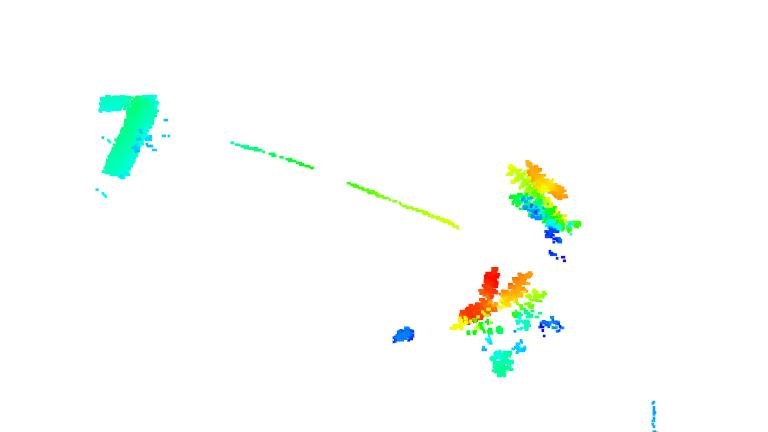chickpea: (449, 263, 560, 377), (496, 156, 579, 242)
